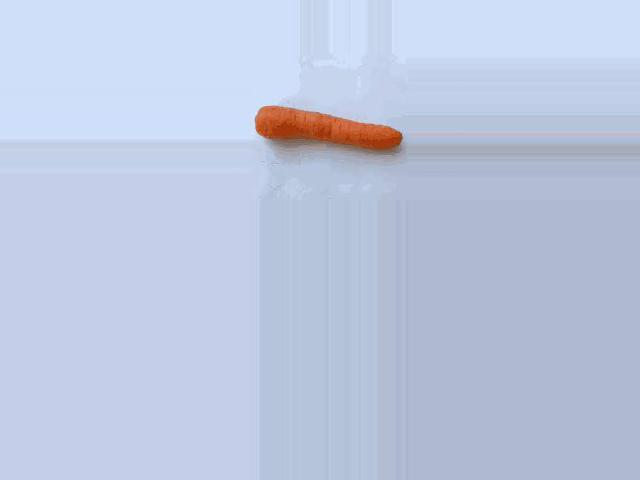carrot: (254, 105, 401, 151)
